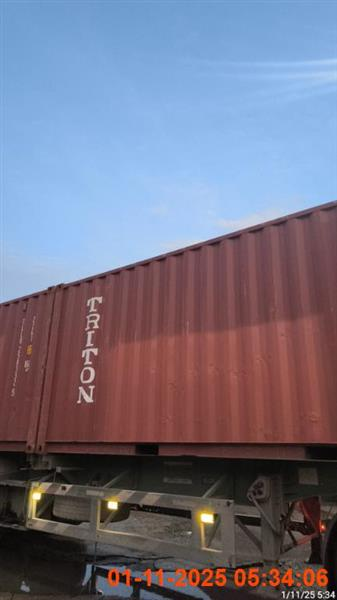broken: (1, 200, 335, 491)
